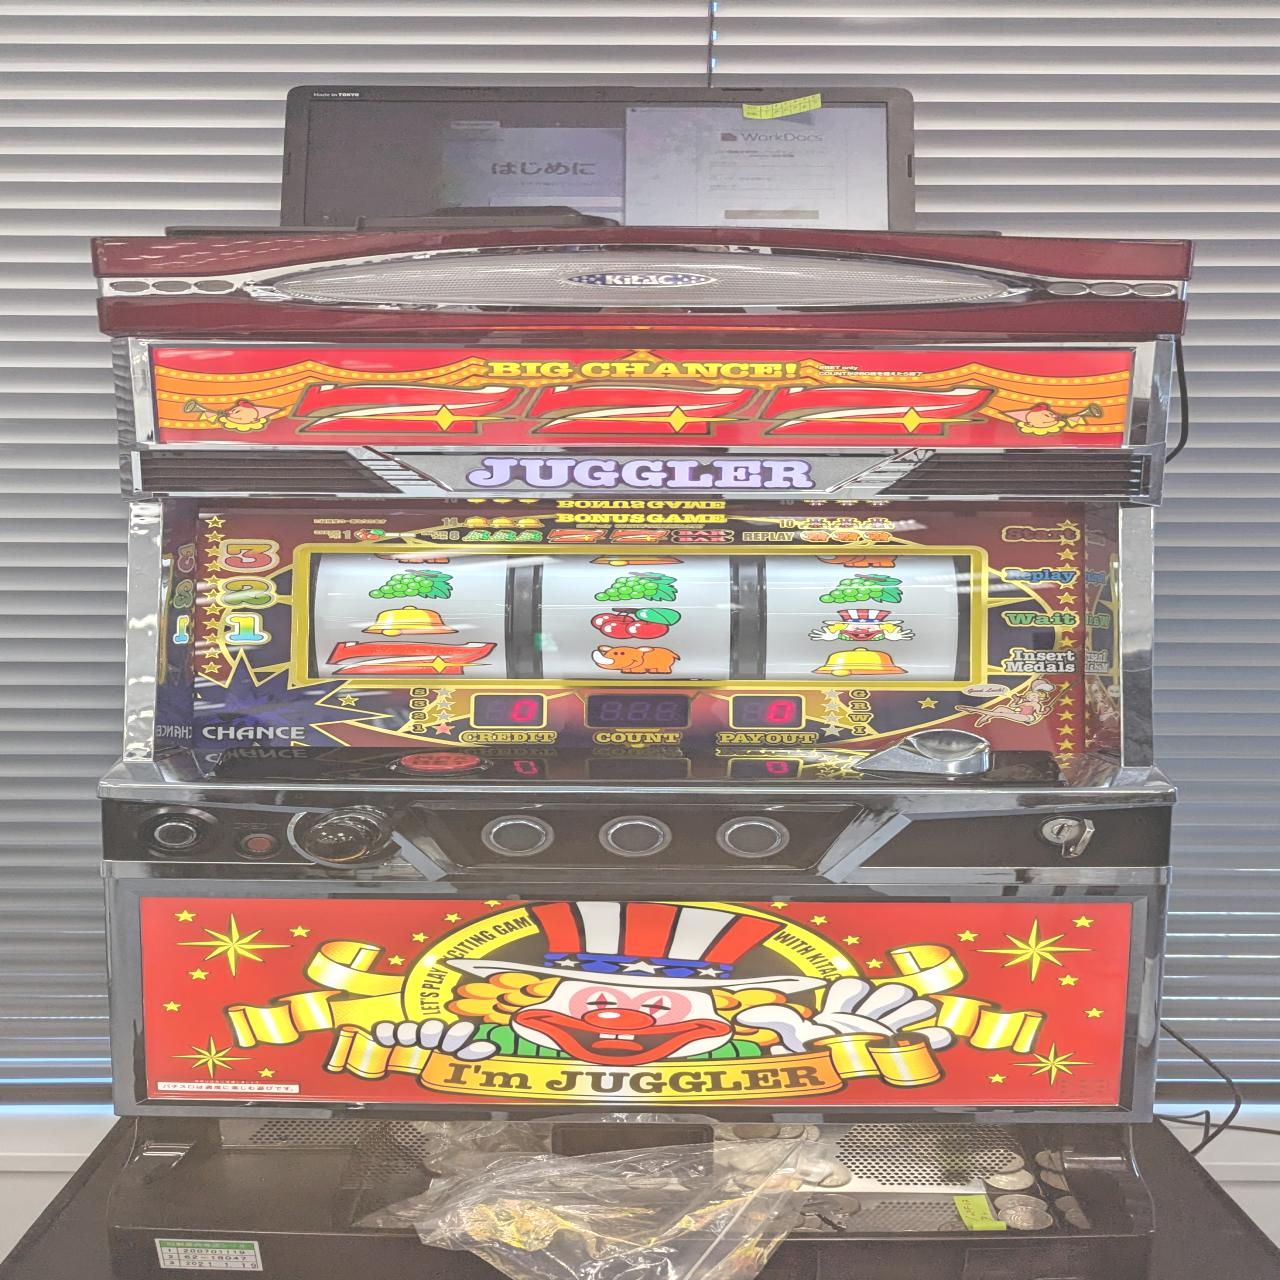7: (325, 640, 499, 679)
Display: (311, 551, 975, 680)
bell: (356, 605, 461, 639), (809, 646, 911, 678)
clown: (806, 608, 917, 644)
grape: (591, 604, 687, 640), (356, 567, 458, 601), (817, 572, 906, 605), (591, 571, 682, 602)
rhino: (587, 644, 686, 678)
